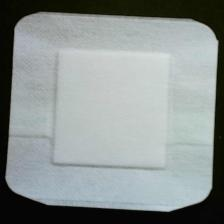Dressing: (5, 14, 222, 214)
